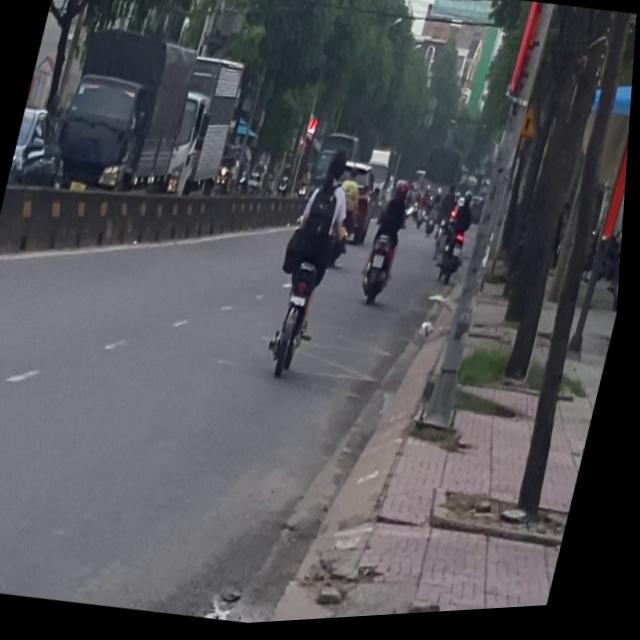licenseplate: (260, 141, 368, 385)
motorcyclist: (324, 149, 352, 190)
